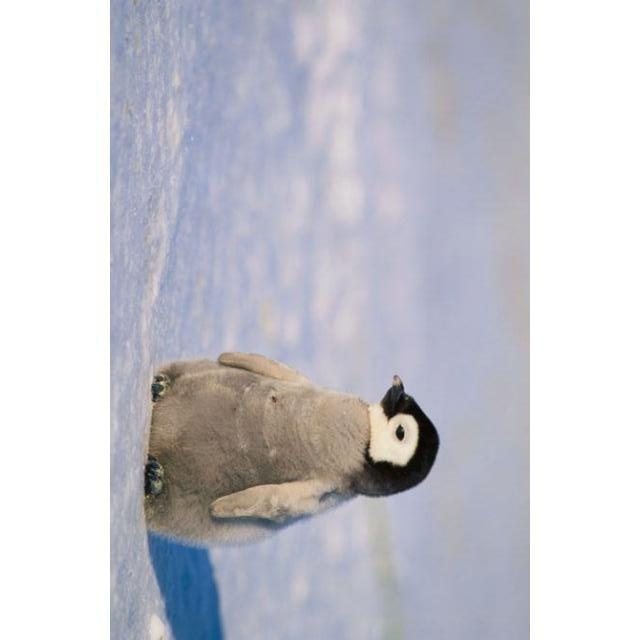penguin: (142, 349, 438, 542)
